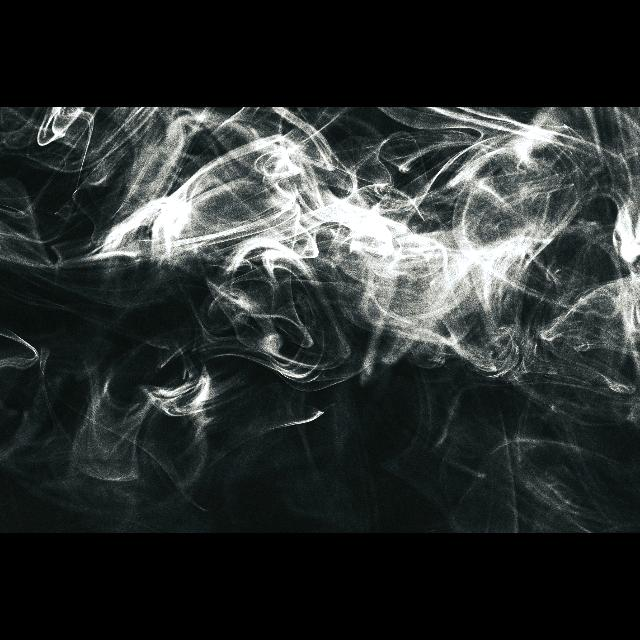smoke: (0, 107, 640, 489)
